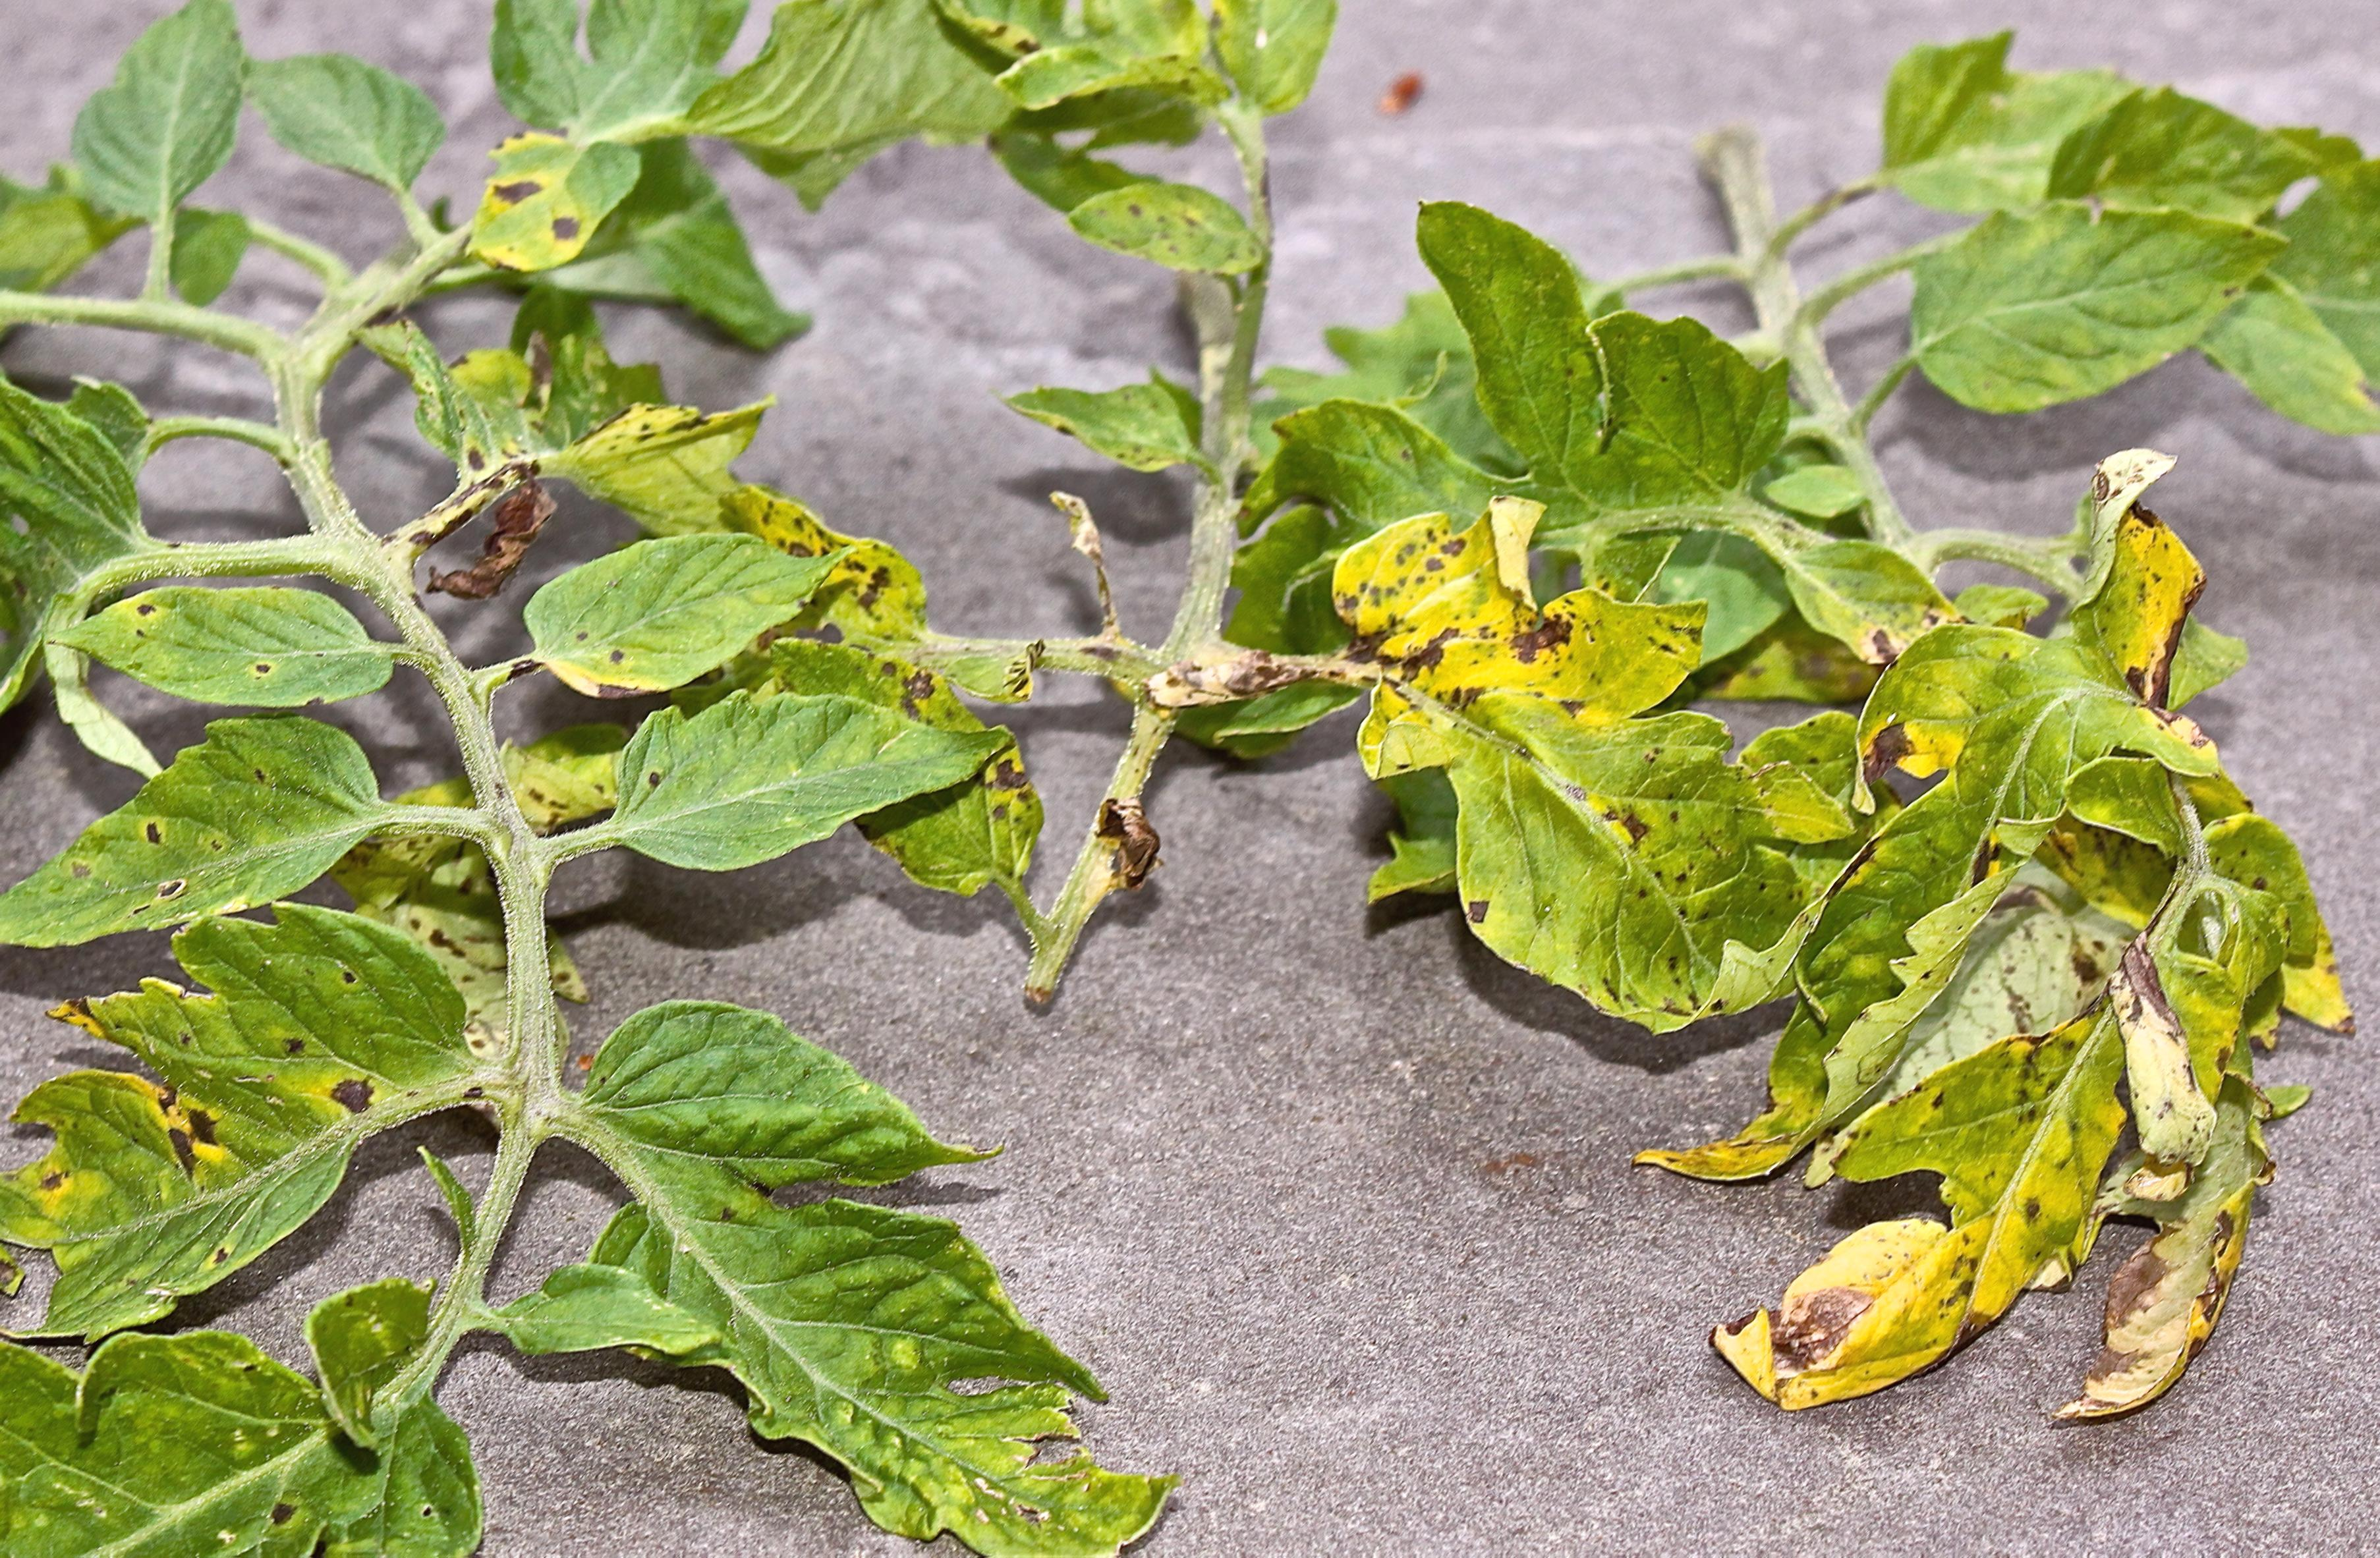Tomato Septoria leaf spot: (549, 1026, 1193, 1558), (1278, 534, 1805, 1015), (1704, 932, 2187, 1407), (0, 915, 494, 1334)
